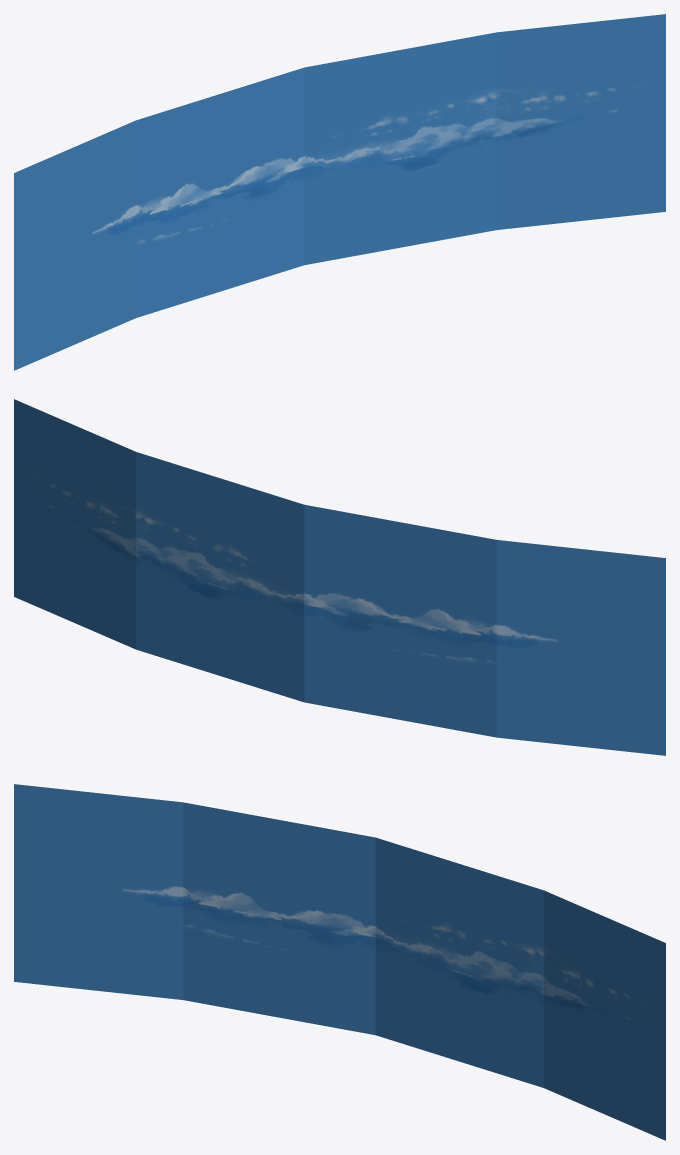
The model's file is Cloud_1_1.fbx.
3 renders of one model, top to bottom at view 1: azimuth 30°, elevation 25°; view 2: azimuth 150°, elevation 25°; view 3: azimuth 330°, elevation 25°, orthographic.
Parts seen in each view (by area): view 1: Cloud_1_1; view 2: Cloud_1_1; view 3: Cloud_1_1.
Boxes of the visible parts, left/top/right/bottom form: Cloud_1_1: left=14, top=14, right=665, bottom=370; Cloud_1_1: left=14, top=399, right=665, bottom=755; Cloud_1_1: left=14, top=784, right=665, bottom=1140.
Size of the model in its own units: 200 by 57.97 by 18.94.
